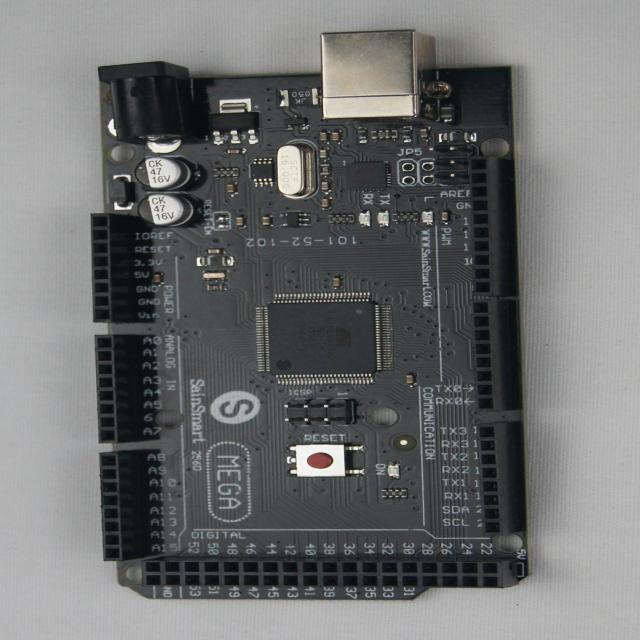Arduino Mega 2560 -Black-: (92, 32, 529, 600)
